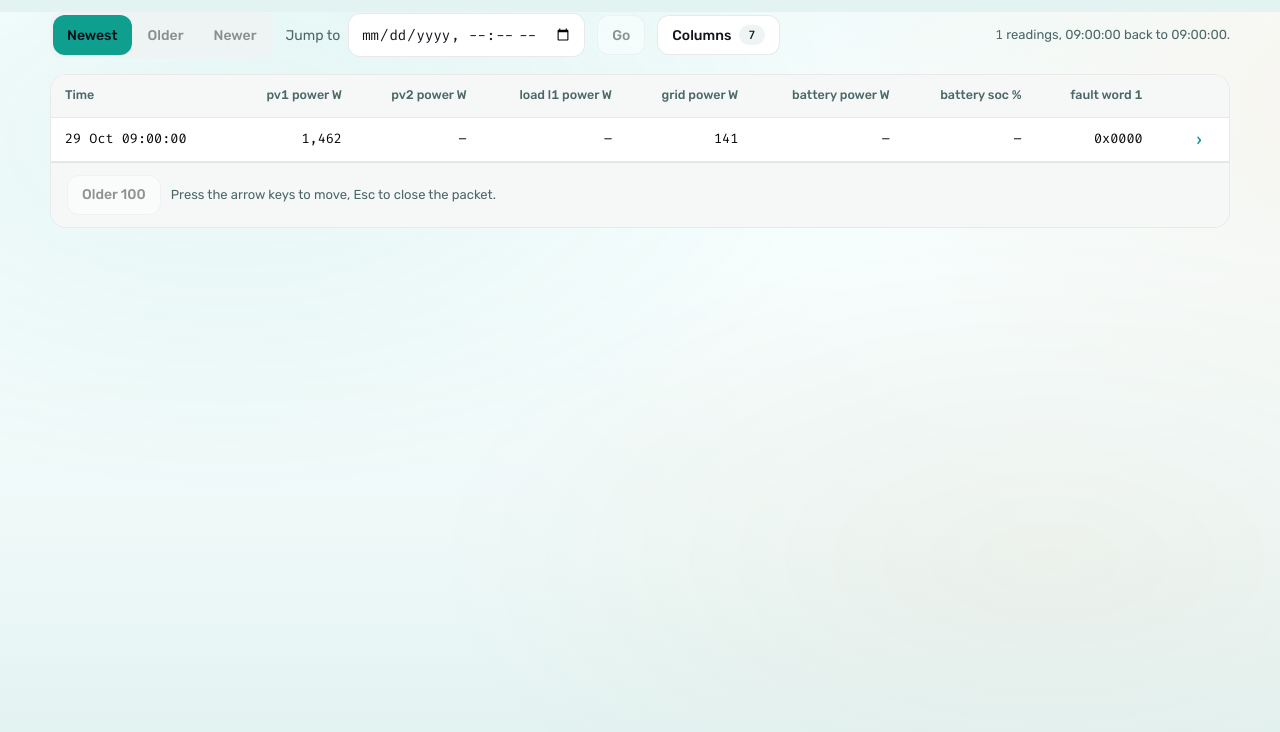
ReadingsTab › R3/R4 opens the packet beside the table, and says when the message was pruned
Click the text "1,462" at (640, 139), box [51, 117, 1229, 161]
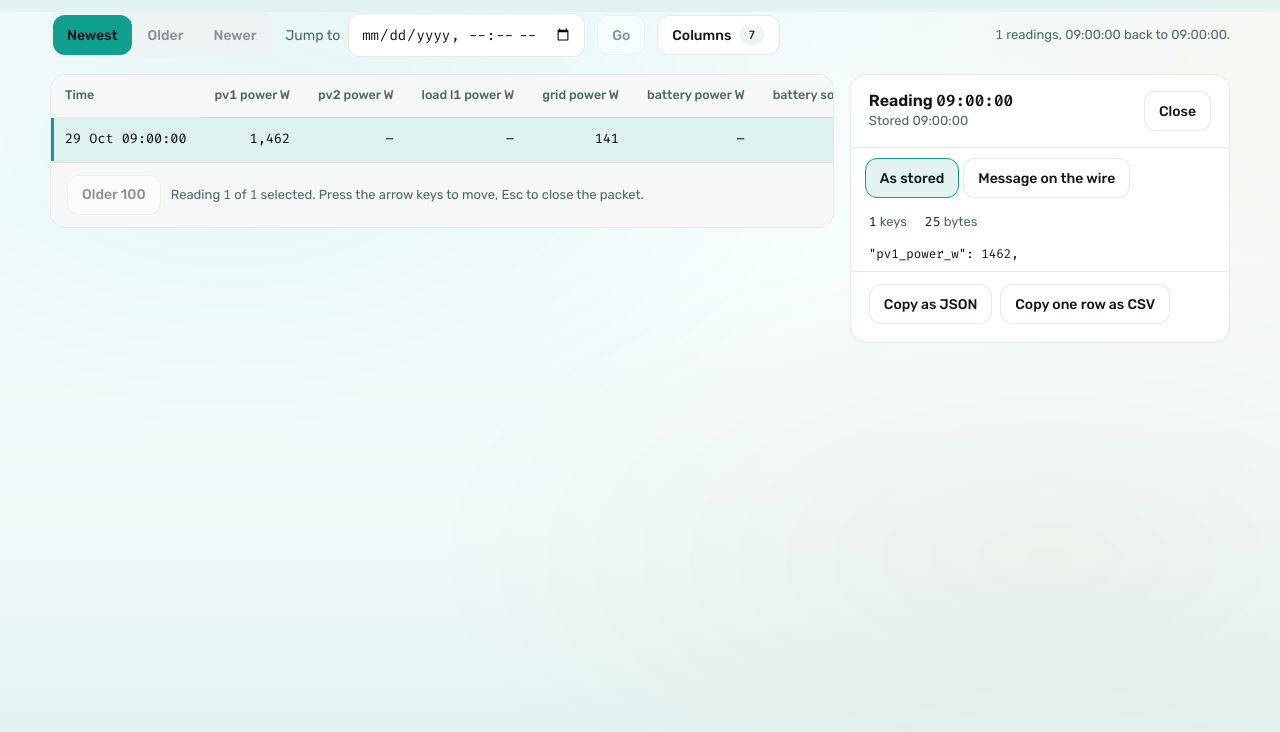
expect the text "\"pv1_power_w\"" is shown: met, box [869, 246, 966, 262]
Click the button "Message on the wire" at (1047, 178), box [963, 158, 1130, 198]
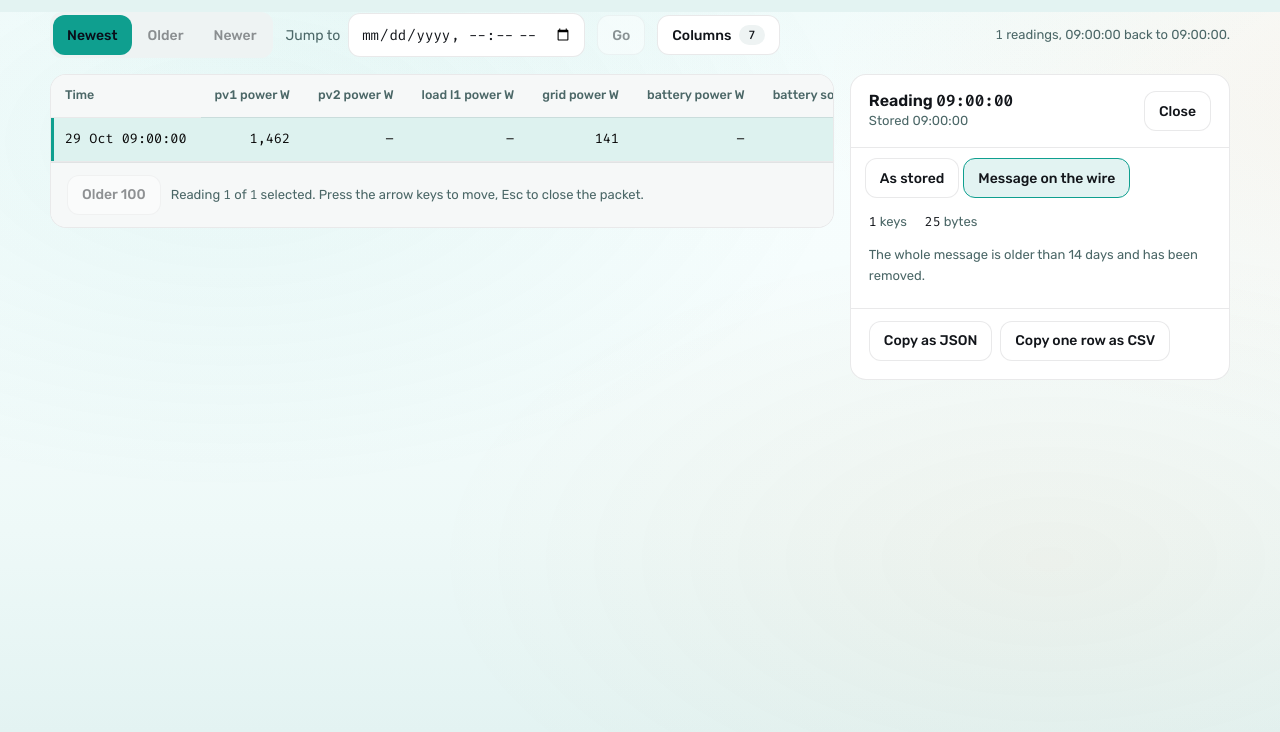
expect the element with class "rt-split" is shown: met, box [50, 74, 1230, 380]
expect the text "older than 14 days and has been removed" is shown: met, box [869, 246, 1198, 283]
